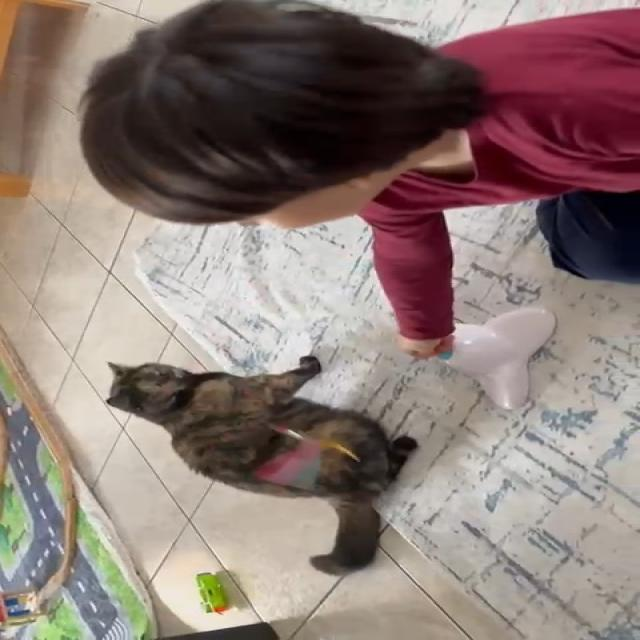authorized: (104, 355, 419, 575)
